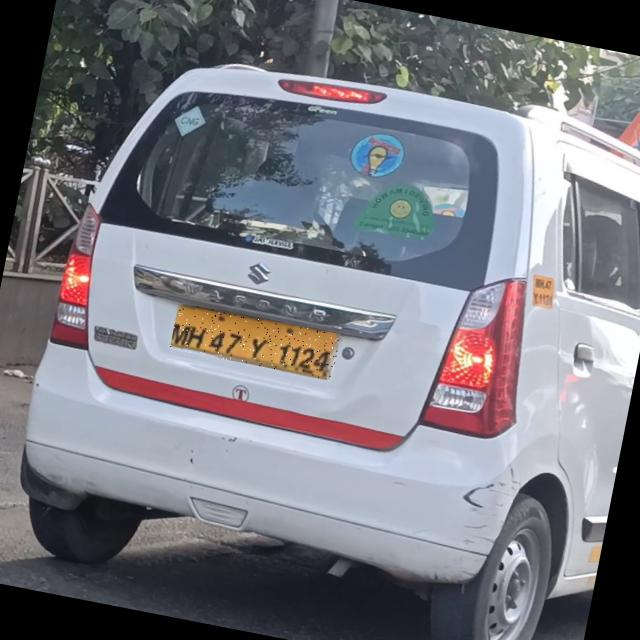Plate: (171, 304, 342, 382)
